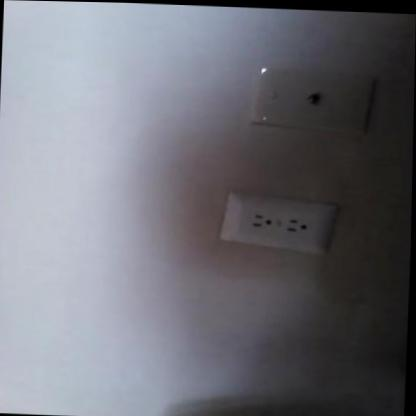OUTLET: (215, 188, 333, 256)
